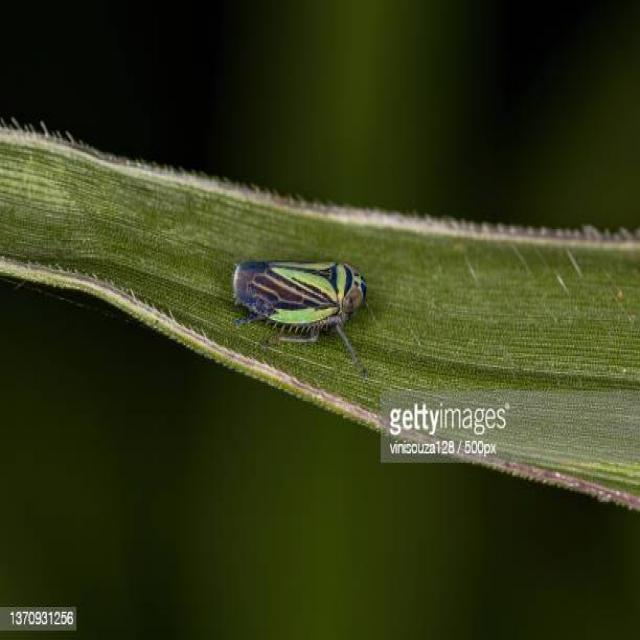Yechan: (214, 239, 396, 372)
